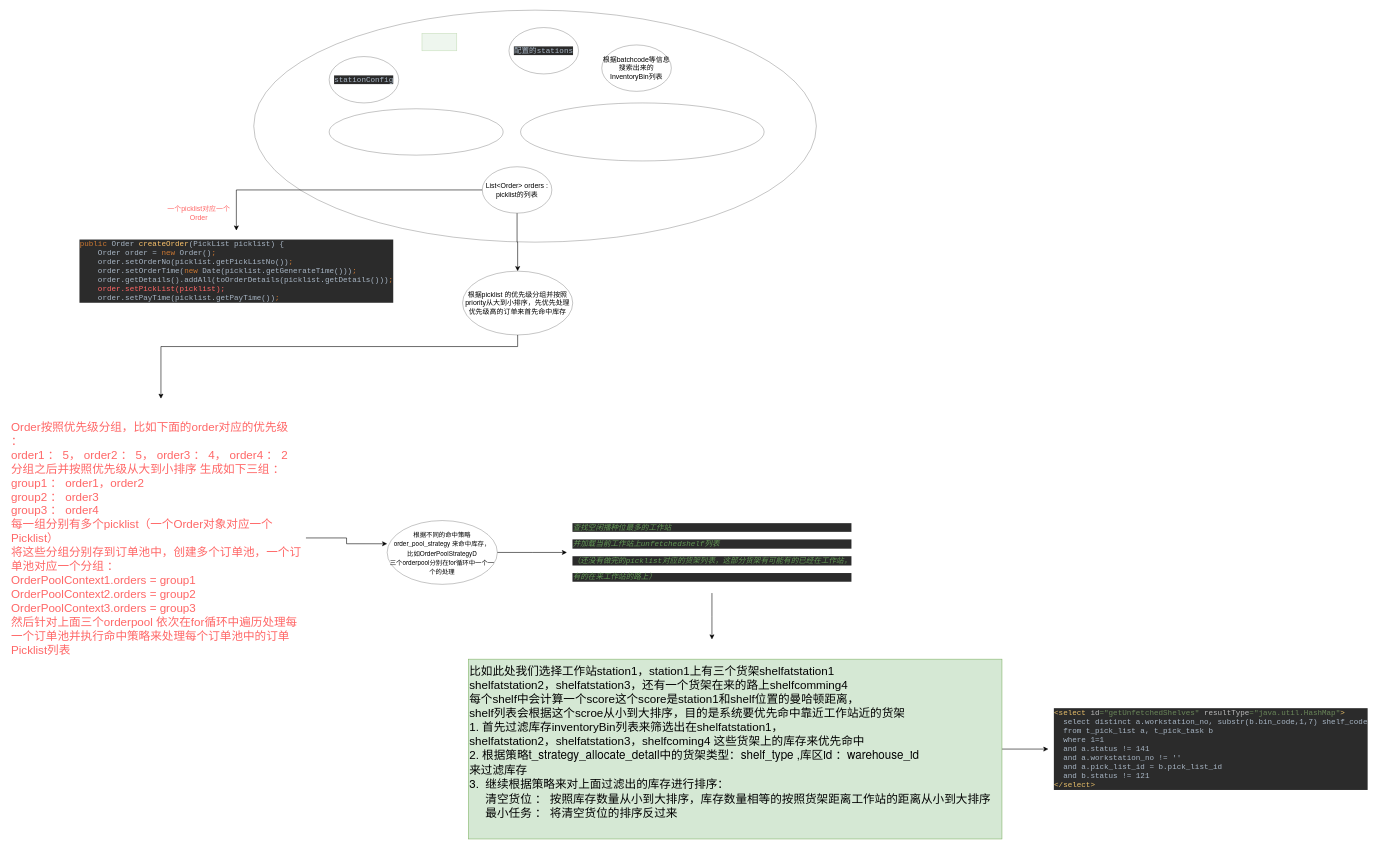
This 1383x849 diagram has some shape labels left out. The centre of each missing label's shape, as x and y in pixels:
"key ：shelf， value ： 被库存占用的bin数量 Map<String , Integer> shelfSidesNum" belongs at (642,131).
"所有的货架（包含locationX，locationY） Map<String , Shelf> shelves" belongs at (416,131).
"订单池" belongs at (439,42).
